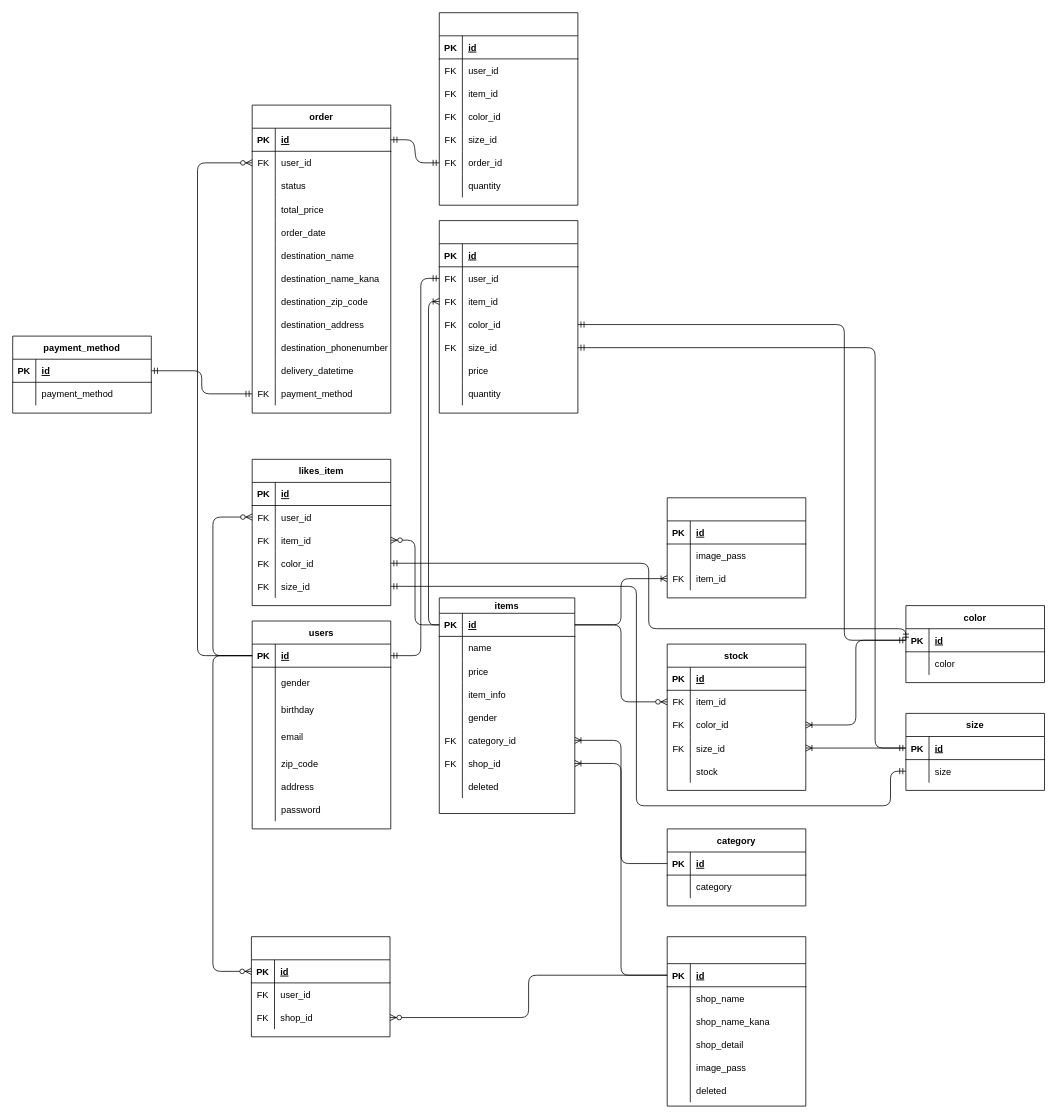
Some shapes in this 1057 by 1119 pixel diagram are drawn without their labels. The shapes that lost their labels are listed below. From the top down, each one's box as (x1, y1, x2, y2) in pixels, then its label:
(439, 12, 578, 205): order_items
(439, 220, 578, 413): cart
(666, 497, 806, 598): images
(251, 936, 390, 1037): likes_shop
(666, 936, 806, 1106): shops
